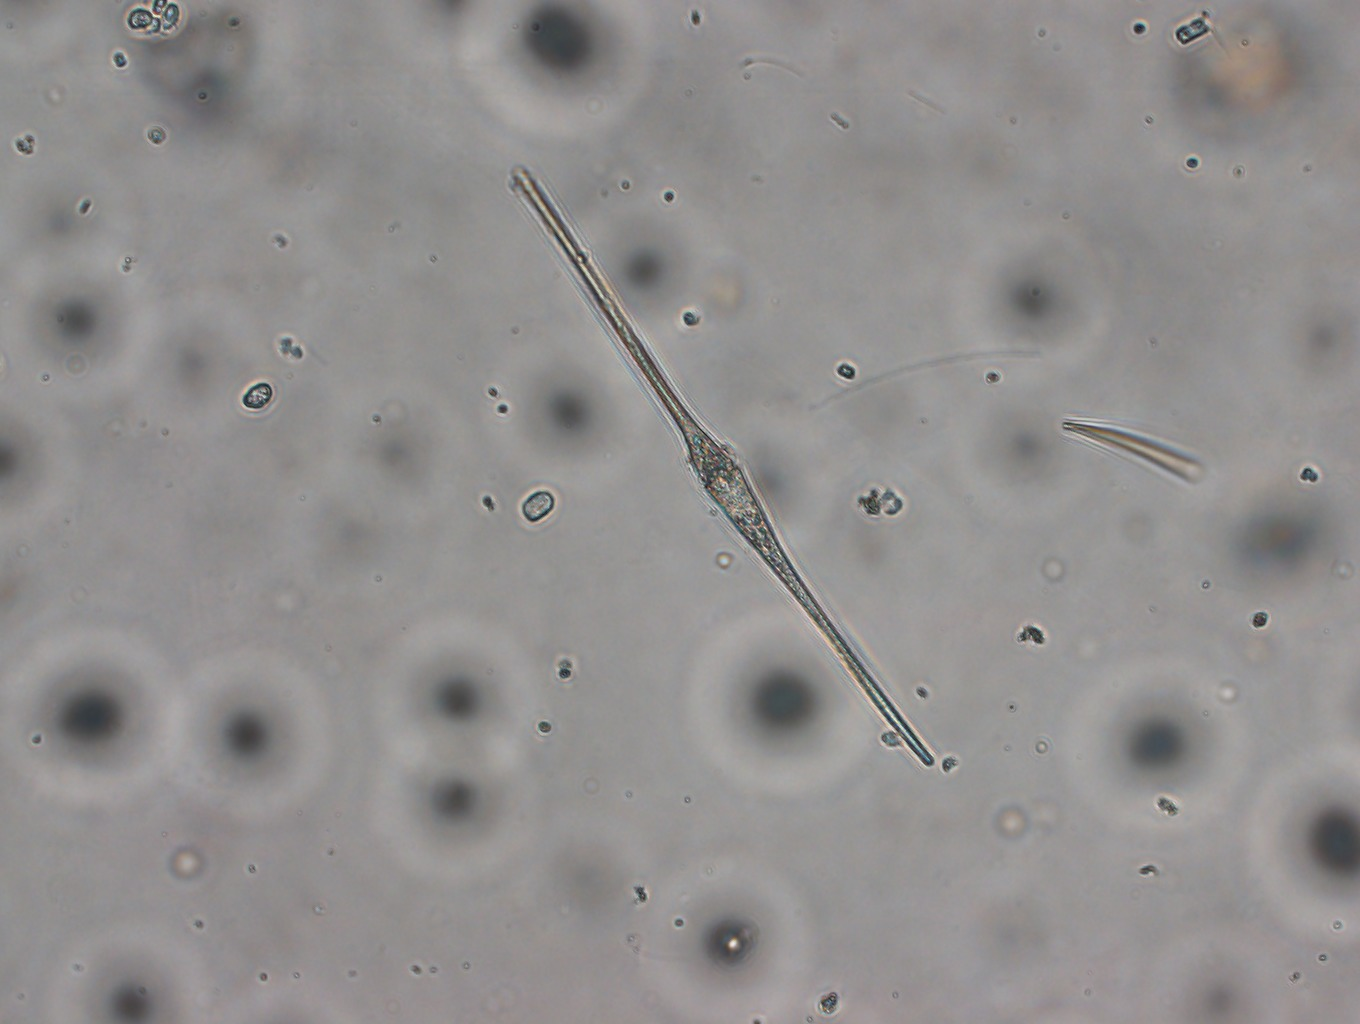ceratium fusus: (509, 160, 937, 770)
